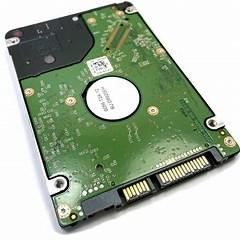internal HDD: (5, 2, 240, 231)
